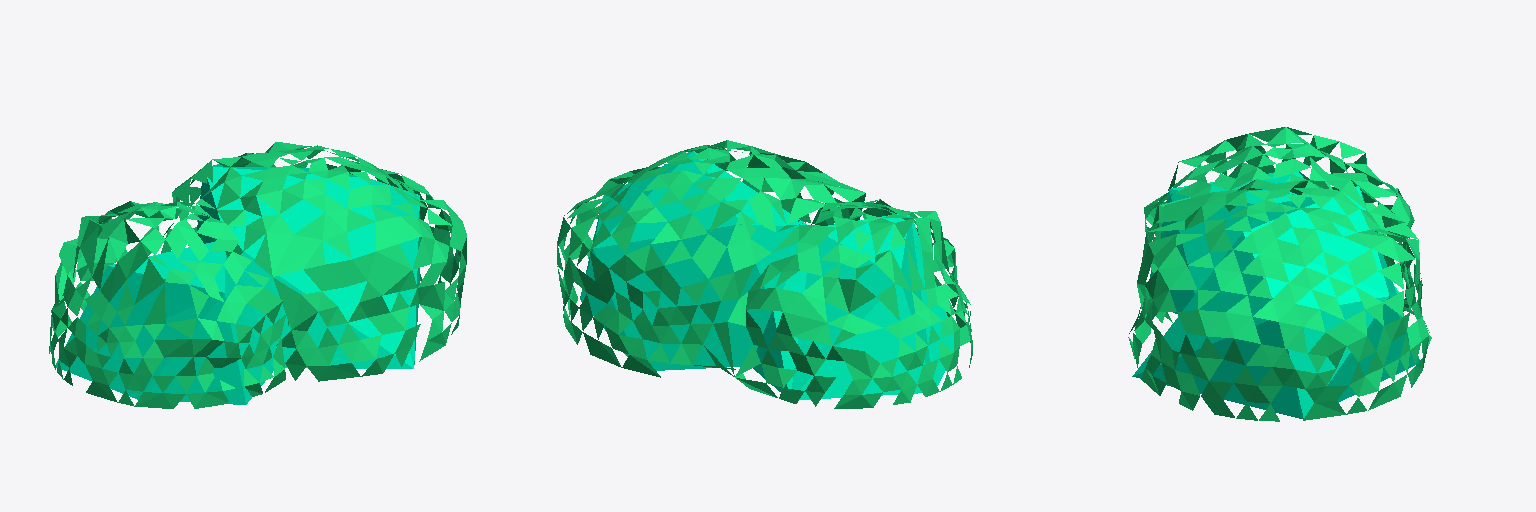
File: WrightBuckwheat_LOD0.obj
3 renders of one model, left to right at view 1: azimuth 30°, elevation 25°; view 2: azimuth 150°, elevation 25°; view 3: azimuth 270°, elevation 25°, orthographic.
Visible parts, largest first — view 1: WrightBuckwheat_LOD0; view 2: WrightBuckwheat_LOD0; view 3: WrightBuckwheat_LOD0.
Boxes of the visible parts, box(x1,y1,x2,y2) form: WrightBuckwheat_LOD0: box(49, 142, 466, 408); WrightBuckwheat_LOD0: box(557, 140, 972, 408); WrightBuckwheat_LOD0: box(1128, 127, 1431, 421).
Bounding box in the file's own units: 102 × 41.64 × 70.92.